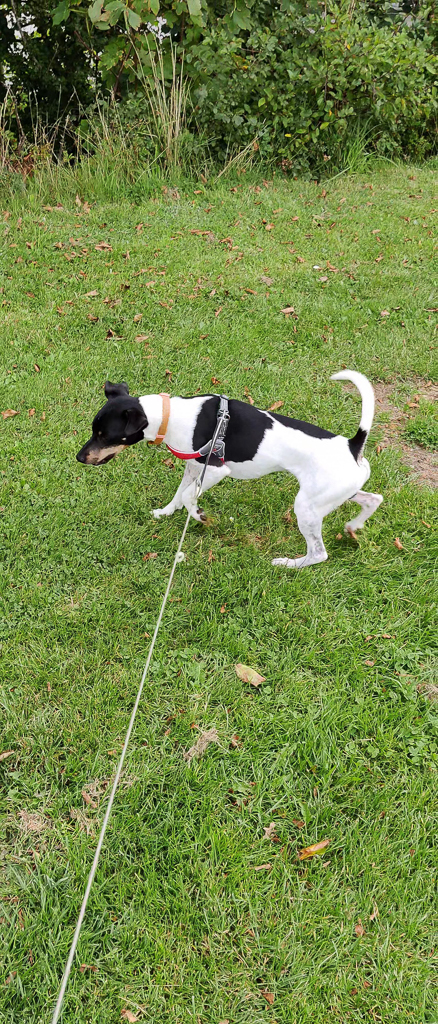Dog: (71, 356, 402, 589)
